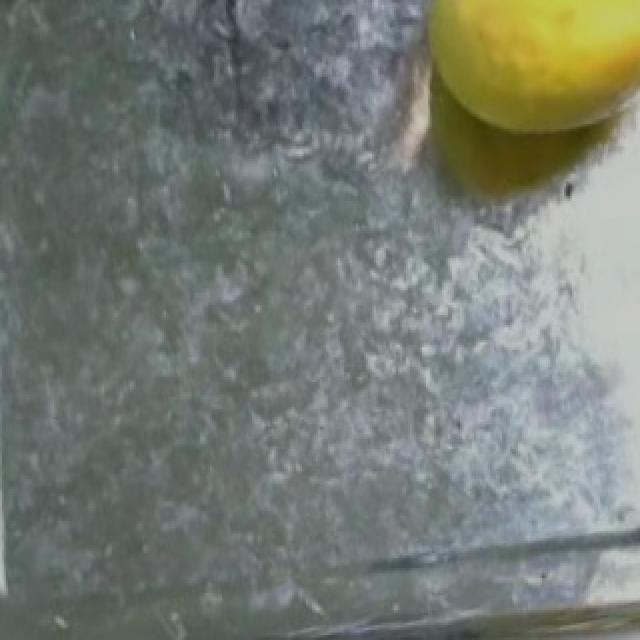fruit: (386, 0, 640, 174)
